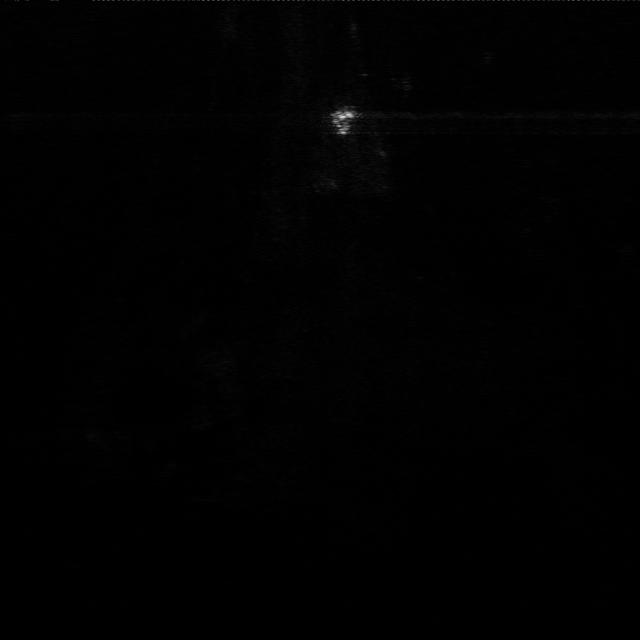rov: (326, 108, 356, 137)
